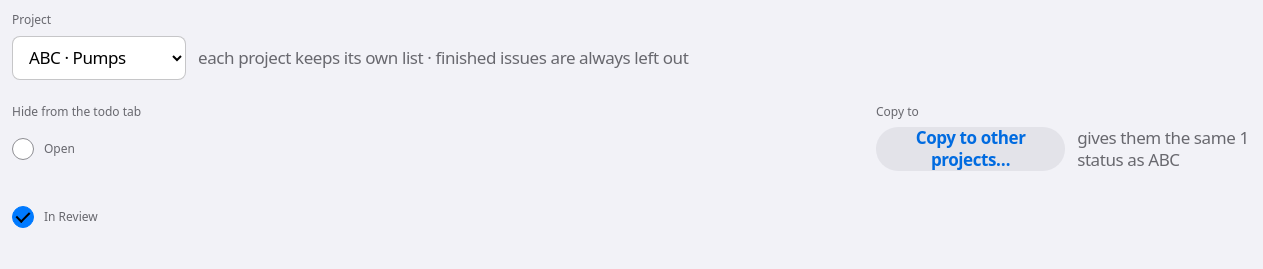
Test: copying to other projects › offers the other projects, never the current one
The width and height of the screenshot is (1263, 269).
Expected: the checkbox labelled "Open" is shown, x1=12 y1=138 x2=34 y2=160
What coordinates should you click on to do the following:
click the button "Copy to other projects…"
I would click on:
 (971, 149)
Its box is x1=876 y1=127 x2=1065 y2=171.
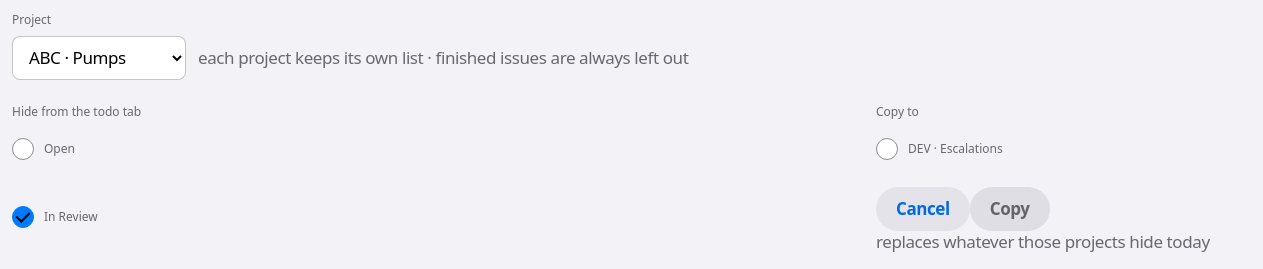
Now the checkbox labelled "DEV · Escalations" is shown, box x1=876 y1=138 x2=898 y2=160
